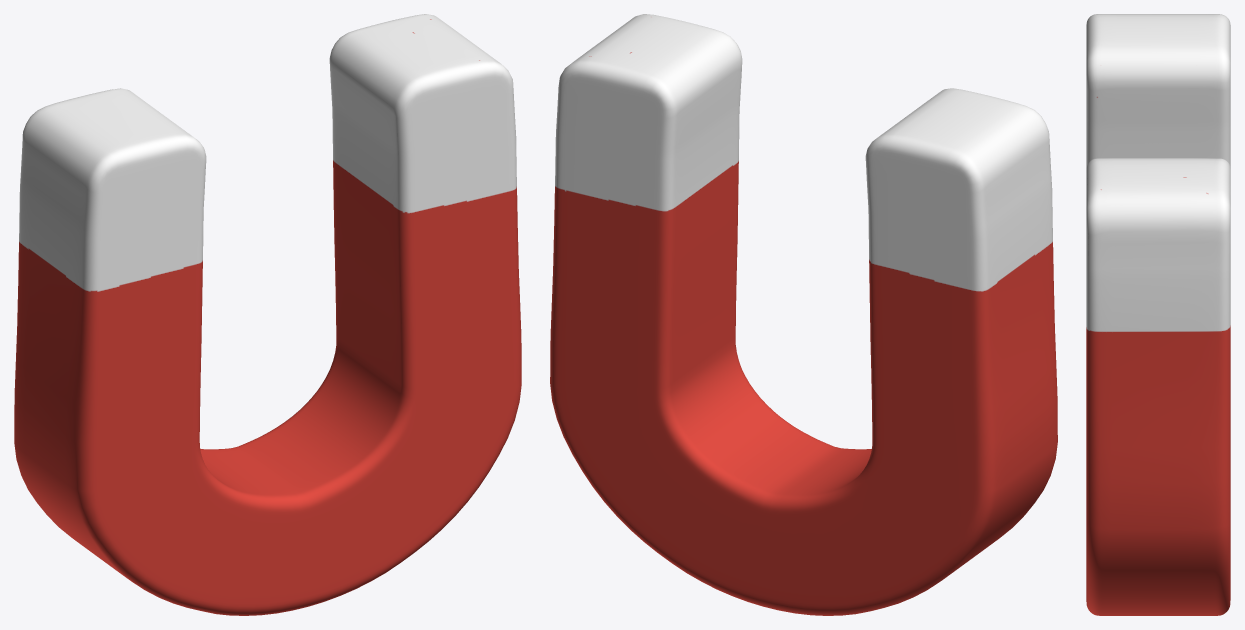
Rendered from Magnetfbx.fbx.
The picture shows the model from 3 angles, left to right: view 1: azimuth 30°, elevation 25°; view 2: azimuth 150°, elevation 25°; view 3: azimuth 270°, elevation 25°; orthographic projection. The views are drawn at different scales.
Visible parts, largest first — view 1: Mesh0; view 2: Mesh0; view 3: Mesh0.
Part boxes in pixels (<box>): Mesh0: <box>14,14,521,615</box>; Mesh0: <box>550,14,1057,615</box>; Mesh0: <box>1086,14,1230,615</box>.
Bounding box in the file's own units: 190 × 206 × 54.94.
